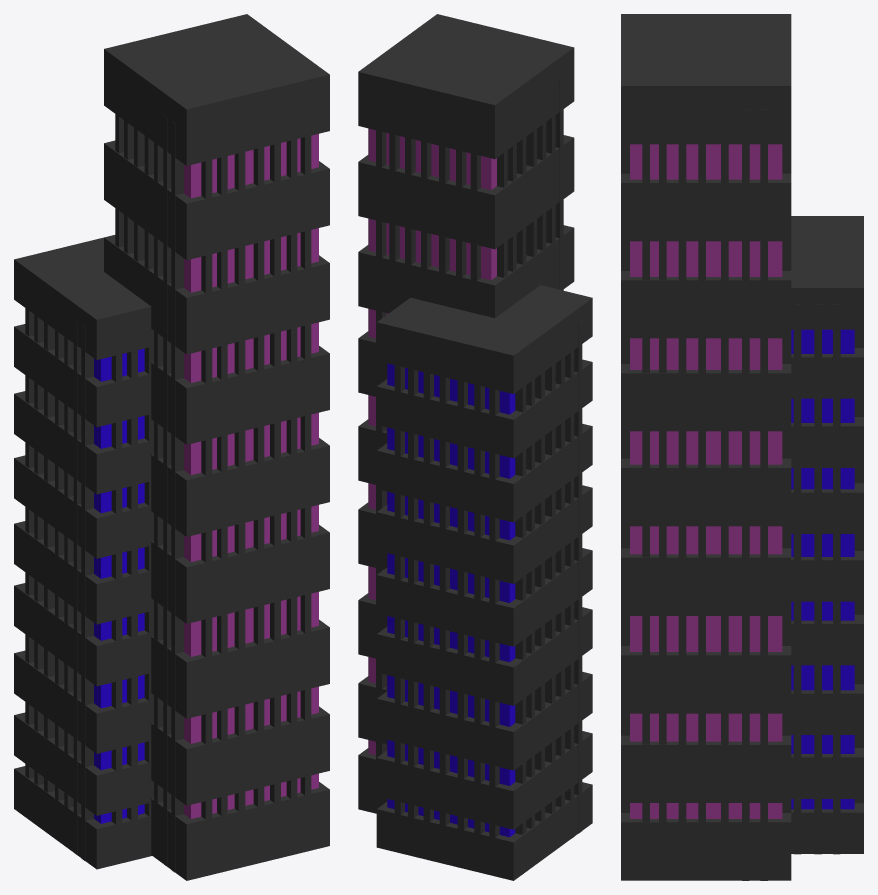
Rendered from edificio principal.fbx.
The picture shows the model from 3 angles, left to right: view 1: azimuth 30°, elevation 25°; view 2: azimuth 150°, elevation 25°; view 3: azimuth 270°, elevation 25°; orthographic projection. The views are drawn at different scales.
Parts seen in each view (by area): view 1: polySurface4394; view 2: polySurface4394; view 3: polySurface4394.
Boxes of the visible parts, bbox=[...] form: polySurface4394: bbox=[14, 14, 329, 880]; polySurface4394: bbox=[358, 14, 592, 880]; polySurface4394: bbox=[621, 14, 863, 880].
Size of the model in its own units: 702 by 2609 by 719.
